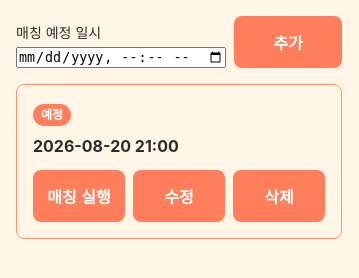
Scenario: RoundTab › 수정 — 기존 값이 입력칸에 채워지고 저장하면 목록이 갱신된다
The image size is (359, 278).
Expected: the text "2026-08-20 21:00" is shown, [33,136,179,156]
Click the button "수정".
click(179, 196)  # box [133,170,225,222]
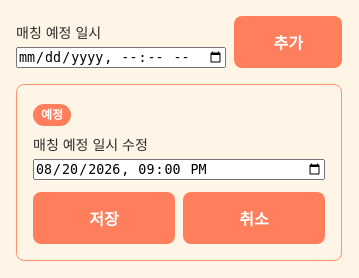
Expected: the field labelled "매칭 예정 일시 수정" holds "2026-08-20T21:00"
Replace the text in the field labelled "매칭 예정 일시 수정" with "2026-08-13T21:00" at {"x": 179, "y": 170}, box [33,159,325,180]
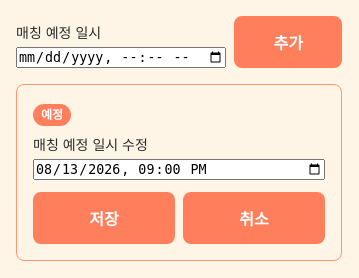
Click the button "저장".
click(104, 218)  # box [33,192,175,244]
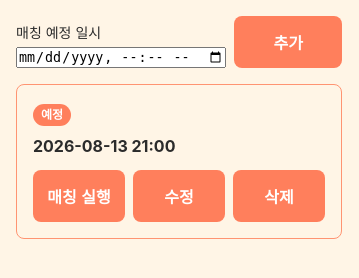
Expected: the text "2026-08-13 21:00" is shown, [33,136,175,156]
